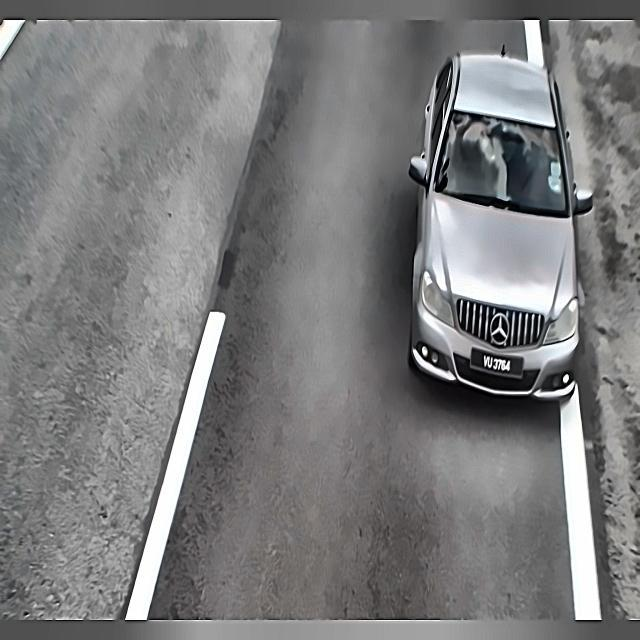car: (466, 337, 530, 384)
